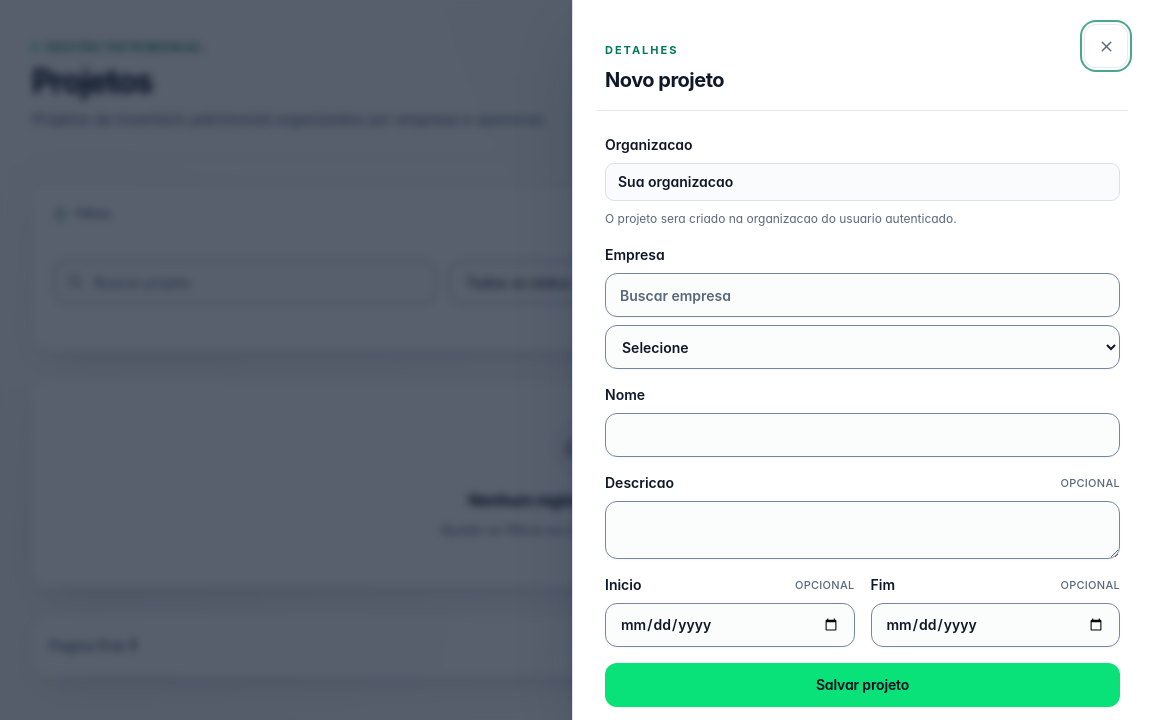
Test case: ProjectsPage › cria no tenant autenticado e normaliza campos opcionais
Select "Empresa Alpha" in the dropdown named "Empresa" at x=862, y=347, box [605, 325, 1120, 369]
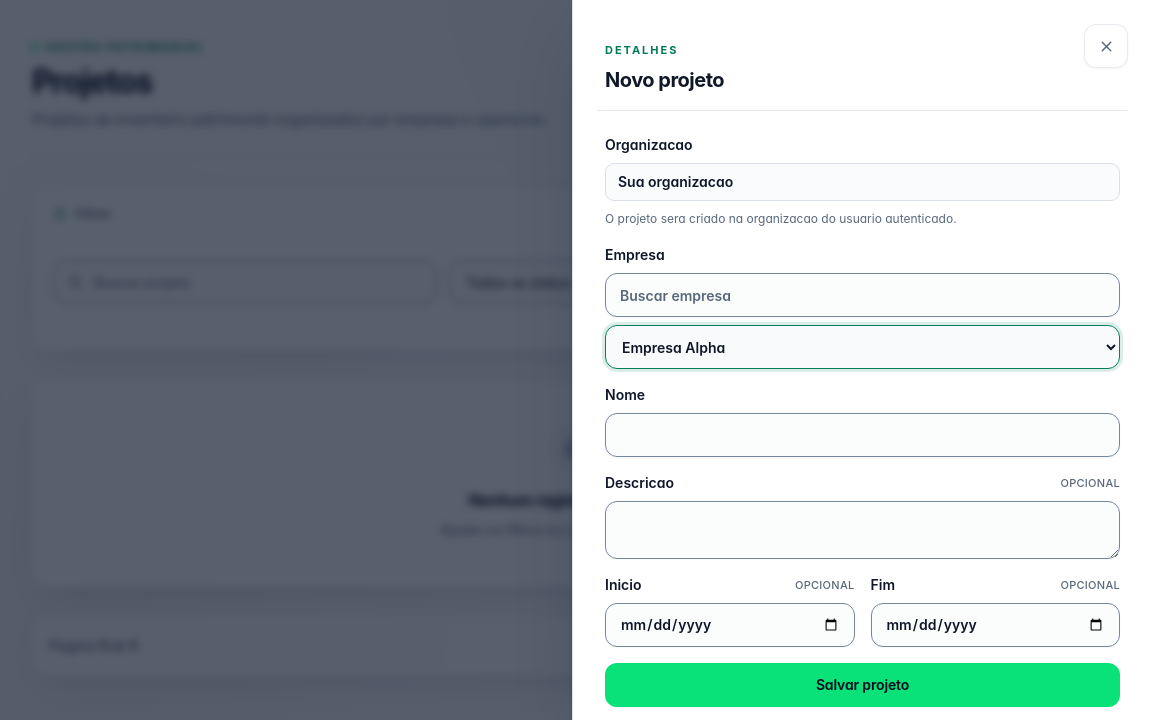
Type "  Projeto Novo  " into the field labelled "Nome" at x=862, y=435, box [605, 413, 1120, 457]
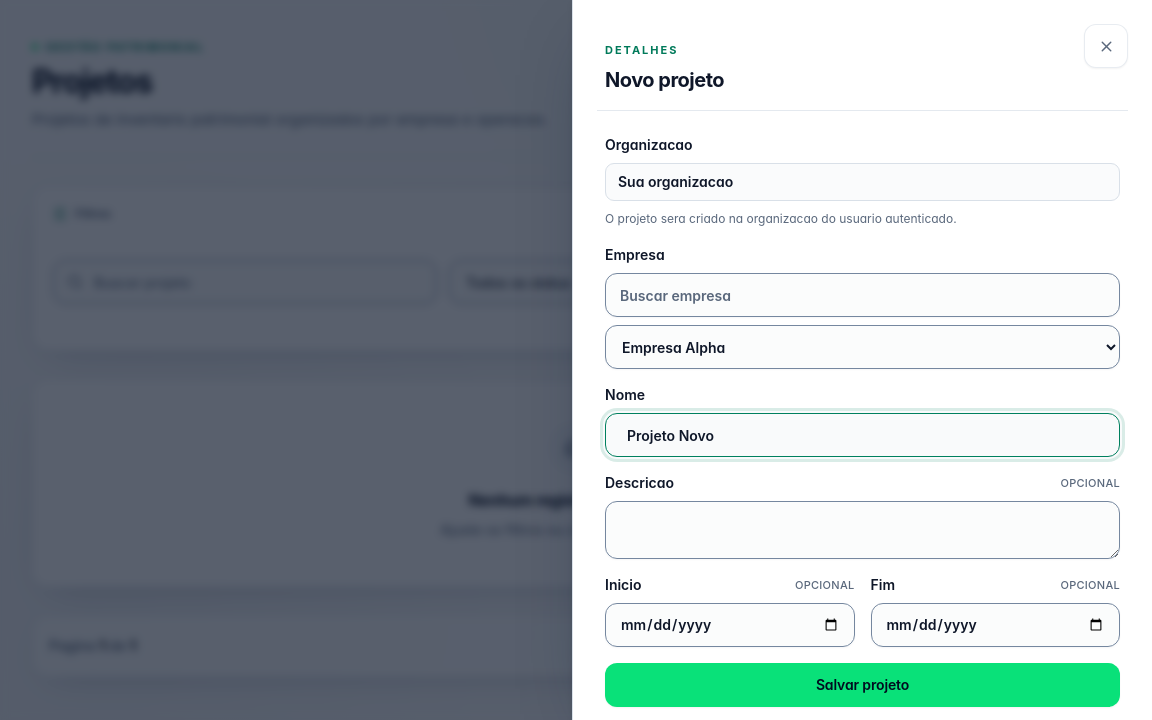
Click the button "Salvar projeto" at x=862, y=685, box [605, 663, 1120, 707]
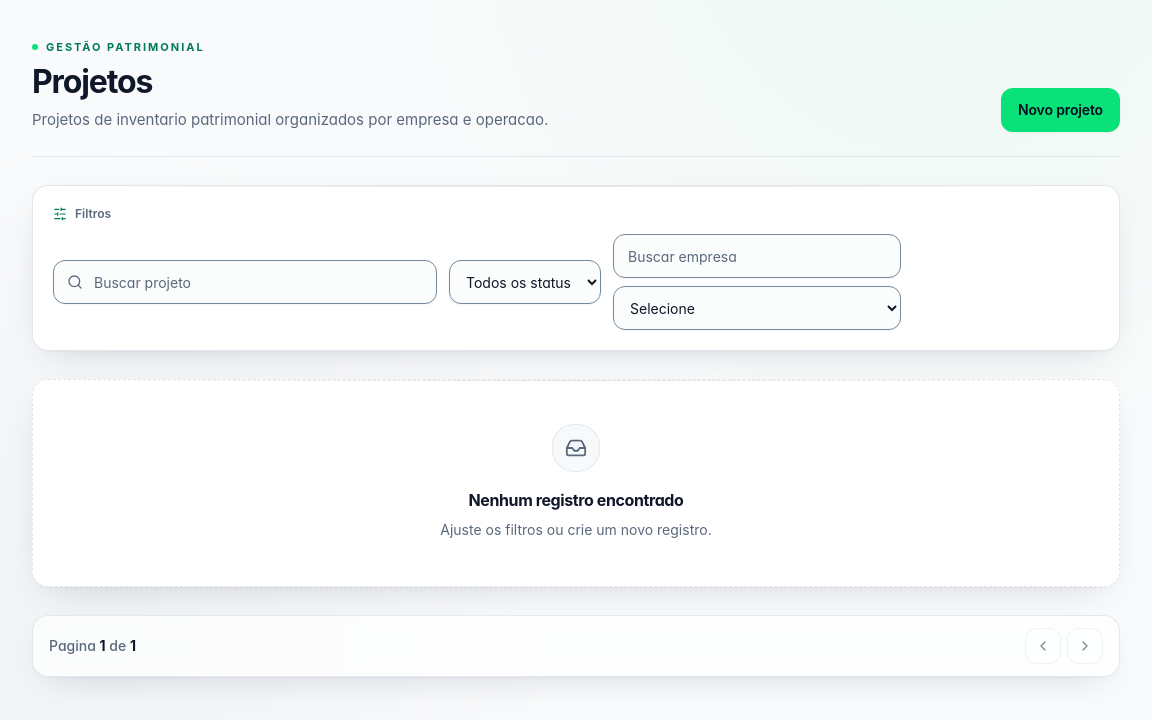
Check: the label labelled "Organizacao" is gone
